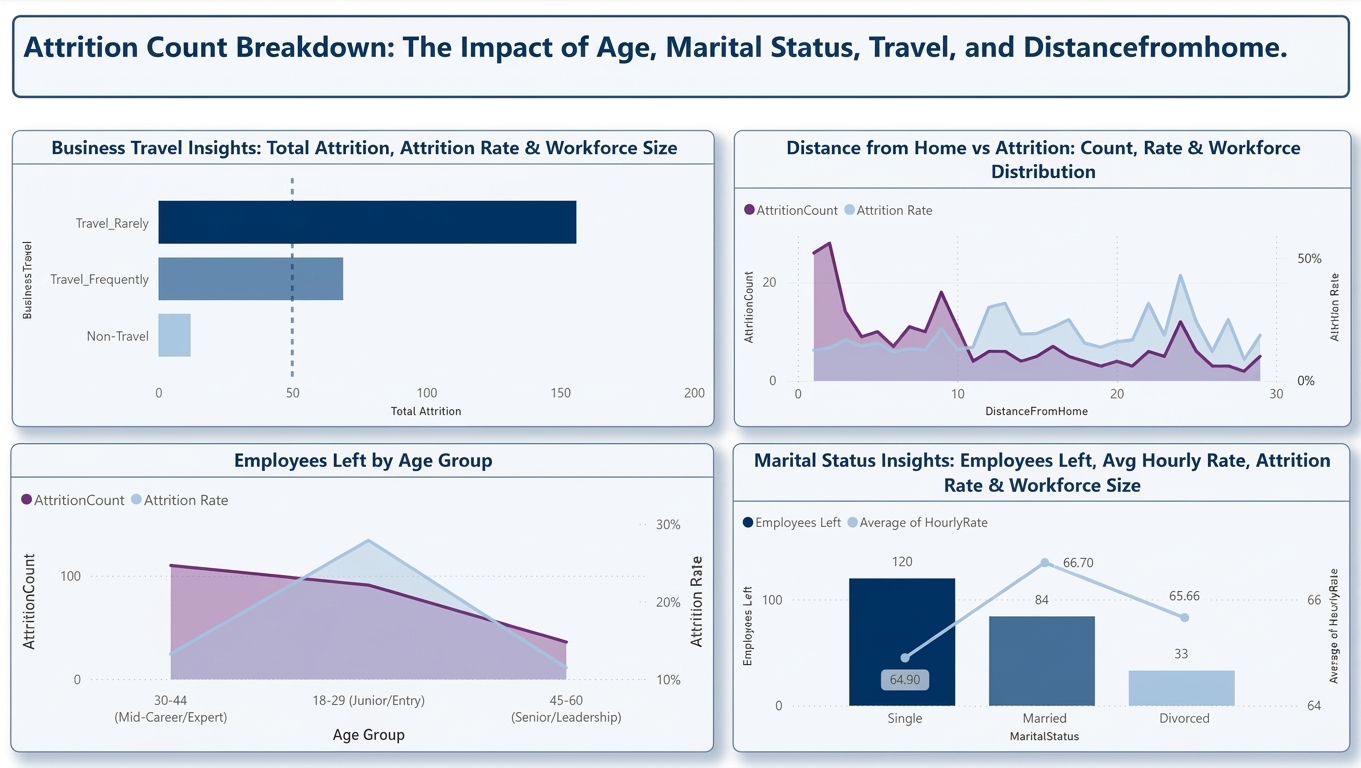

The page's visual inventory and layout, read from the dashboard file:
{"tool":"powerbi","page":{"name":"Employee Attrition Overview","canvas":[1280,720],"ordinal":2},"visuals":[{"type":"clusteredBarChart","title":"Business Travel Insights: Total Attrition, Attrition Rate & Workforce Size","fields":{"Category":["HrData.BusinessTravel"],"Y":["_calculations.Total Attrition"]},"box":[16.7,123.8,655.3,276.9],"z":0},{"type":"lineChart","title":"Employees Left by Age Group","fields":{"Category":["WA_Fn-UseC_-HR-Employee-Attrition.Age Group"],"Y2":["_calculations.Attrition Rate"],"Y":["_calculations.AttritionCount"]},"box":[16,416,656,288],"z":1000},{"type":"lineStackedColumnComboChart","title":"Marital Status Insights: Employees Left, Avg Hourly Rate, Attrition Rate & Workforce Size","fields":{"Y":["_calculations.Employees Left"],"Category":["WA_Fn-UseC_-HR-Employee-Attrition.MaritalStatus"],"Y2":["Avg(WA_Fn-UseC_-HR-Employee-Attrition.HourlyRate)"]},"box":[688.7,416,576,288],"z":2000},{"type":"textbox","box":[16.7,16.7,1248,77.9],"z":3000},{"type":"lineChart","title":"Distance from Home vs Attrition: Count, Rate & Workforce Distribution","fields":{"Category":["HrData.DistanceFromHome"],"Y":["_calculations.AttritionCount"],"Y2":["_calculations.Attrition Rate"]},"box":[690,124.3,575.7,277.1],"z":4000}]}

Visuals, with their boxes in screenshot pixels (x1, y1, x2, y2), scaled from the page's 1280x720 canvas onto the 1361x768 screenshot:
"Business Travel Insights: Total Attrition, Attrition Rate & Workforce Size" clusteredBarChart: Rect(18, 132, 715, 427)
"Employees Left by Age Group" lineChart: Rect(17, 444, 715, 751)
"Marital Status Insights: Employees Left, Avg Hourly Rate, Attrition Rate & Workforce Size" lineStackedColumnComboChart: Rect(732, 444, 1345, 751)
textbox: Rect(18, 18, 1345, 101)
"Distance from Home vs Attrition: Count, Rate & Workforce Distribution" lineChart: Rect(734, 133, 1346, 428)
